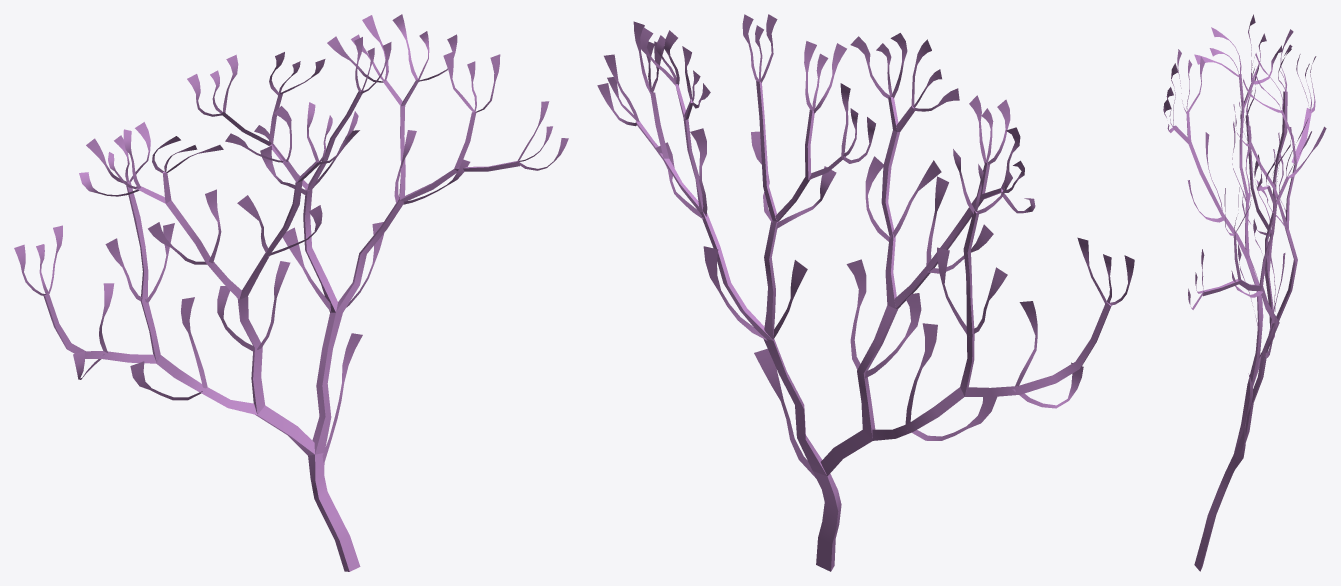
Rendered from coral_C_medium.fbx.
3 views of the same model, side by side, from view 1: azimuth 30°, elevation 25°; view 2: azimuth 150°, elevation 25°; view 3: azimuth 270°, elevation 25° (orthographic). The views are drawn at different scales.
Parts seen in each view (by area): view 1: coral_C_medium_twigs, coral_C_medium_leaves; view 2: coral_C_medium_leaves, coral_C_medium_twigs; view 3: coral_C_medium_twigs, coral_C_medium_leaves.
Part boxes in pixels (x1,y1,x2,y2): coral_C_medium_twigs: (43, 79, 519, 571); coral_C_medium_leaves: (14, 14, 568, 462); coral_C_medium_leaves: (597, 14, 1134, 477); coral_C_medium_twigs: (636, 81, 1111, 571); coral_C_medium_twigs: (1173, 74, 1311, 571); coral_C_medium_leaves: (1163, 14, 1326, 469).
Bounding box in the file's own units: 183 × 172 × 50.78.
